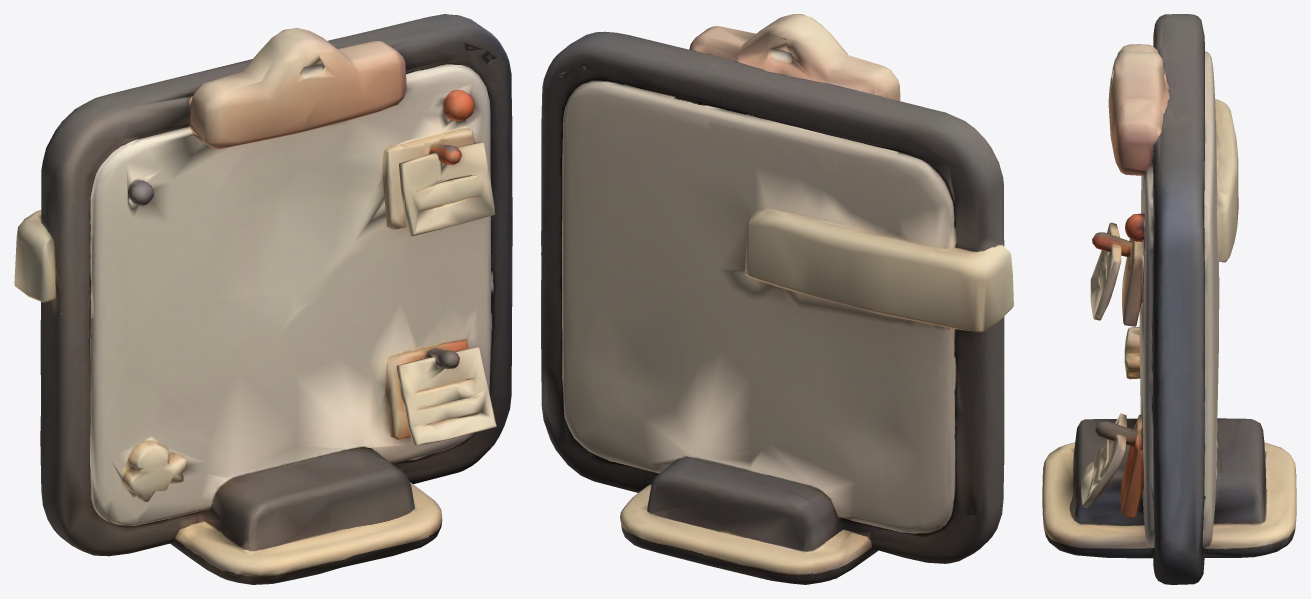
The model's file is whiteboard.glb.
The picture shows the model from 3 angles, left to right: view 1: azimuth 30°, elevation 25°; view 2: azimuth 150°, elevation 25°; view 3: azimuth 270°, elevation 25°; orthographic projection. The views are drawn at different scales.
Parts seen in each view (by area): view 1: tripo_node_28333ef9-c2ce-4651-8cbe-499d13fa4559; view 2: tripo_node_28333ef9-c2ce-4651-8cbe-499d13fa4559; view 3: tripo_node_28333ef9-c2ce-4651-8cbe-499d13fa4559.
Boxes of the visible parts, box(x1,y1,x2,y2) form: tripo_node_28333ef9-c2ce-4651-8cbe-499d13fa4559: box(14, 14, 512, 584); tripo_node_28333ef9-c2ce-4651-8cbe-499d13fa4559: box(541, 14, 1013, 584); tripo_node_28333ef9-c2ce-4651-8cbe-499d13fa4559: box(1042, 14, 1296, 584).
Bounding box in the file's own units: 0.9596 × 0.9794 × 0.4914.
Materials: 1 (1 with a texture image).
